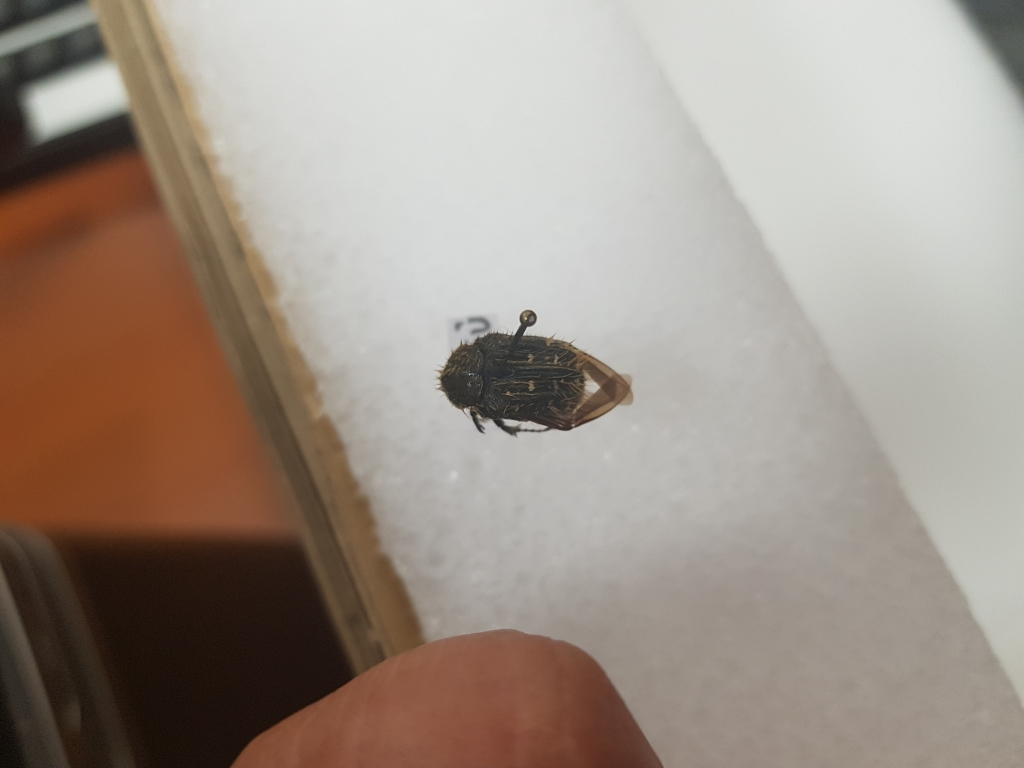Tropinota_hirta: (436, 326, 638, 444)
